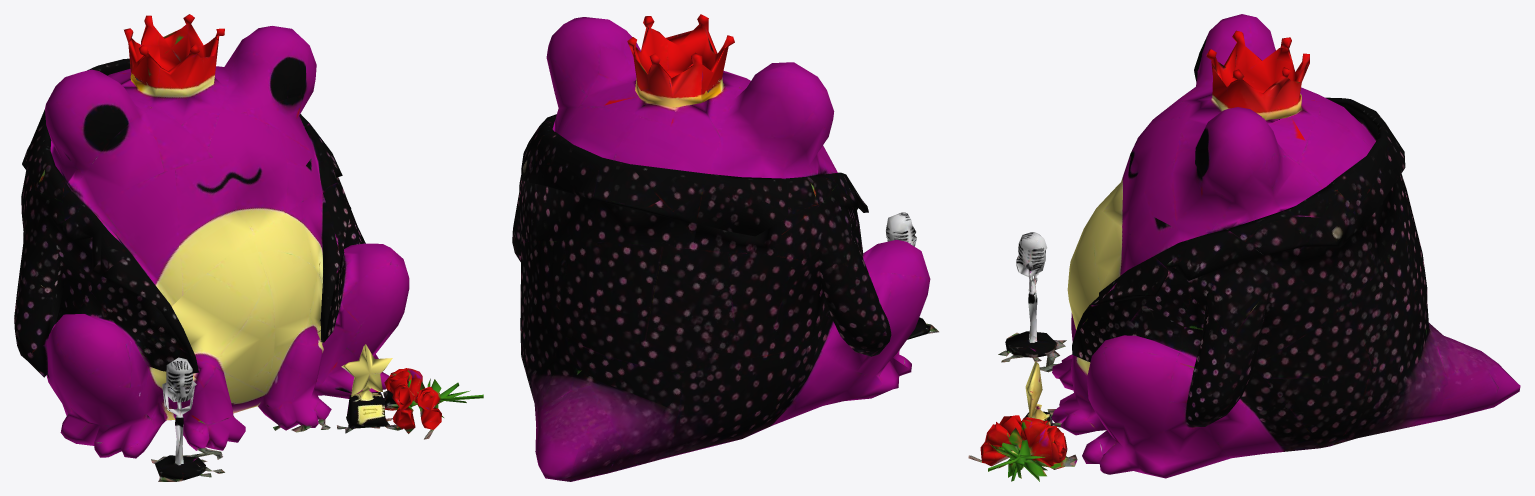
The model's file is vedette.glb.
3 renders of one model, left to right at view 1: azimuth 30°, elevation 25°; view 2: azimuth 150°, elevation 25°; view 3: azimuth 270°, elevation 25°, orthographic. The views are drawn at different scales.
Parts seen in each view (by area): view 1: mesh_node; view 2: mesh_node; view 3: mesh_node.
Boxes of the visible parts, x1=… form: mesh_node: x1=14, y1=14, x2=483, y2=481; mesh_node: x1=512, y1=14, x2=938, y2=481; mesh_node: x1=968, y1=14, x2=1520, y2=481.
Size of the model in its own units: 1.2 by 1.08 by 1.53.
1 material, 1 textured.
